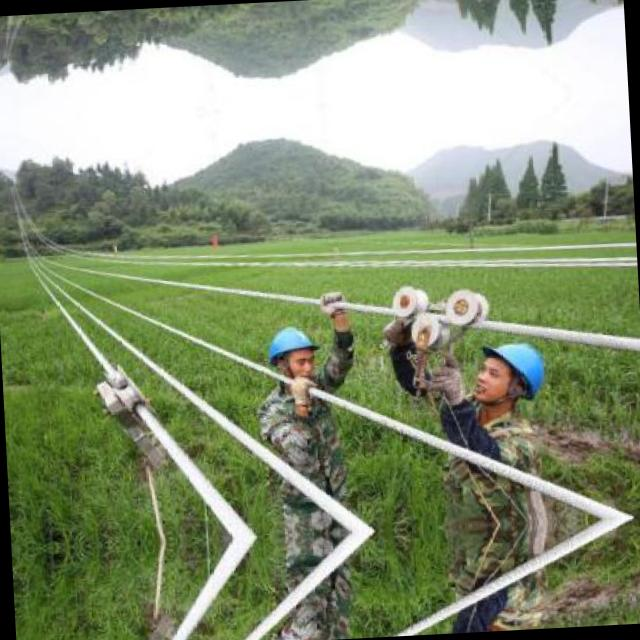helmet: (466, 334, 554, 412), (262, 321, 318, 384)
